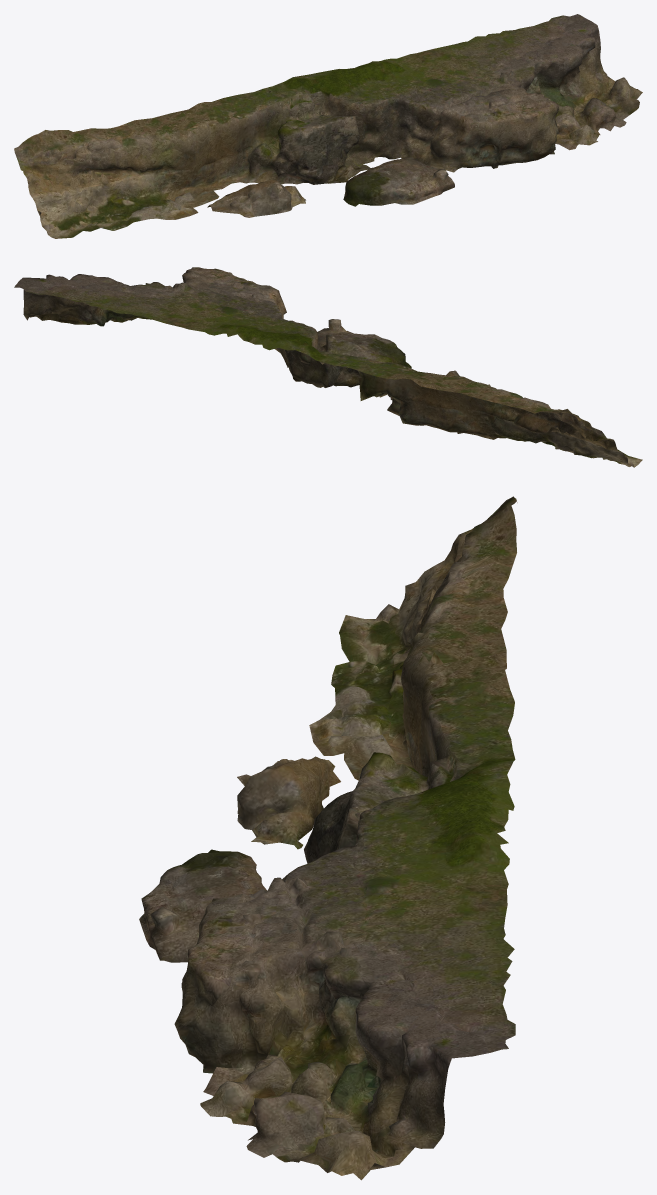
The picture shows the model from 3 angles, top to bottom: view 1: azimuth 30°, elevation 25°; view 2: azimuth 150°, elevation 25°; view 3: azimuth 270°, elevation 25°; orthographic projection. The views are drawn at different scales.
Parts seen in each view (by area): view 1: coastal_cliff_04; view 2: coastal_cliff_04; view 3: coastal_cliff_04.
Boxes of the visible parts, x1,y1,x2,y2 form: coastal_cliff_04: (14,14,642,238); coastal_cliff_04: (14,267,642,467); coastal_cliff_04: (139,496,517,1180).
Size of the model in its own units: 86.72 by 10.99 by 24.23.
Materials: 1 (1 with a texture image).
